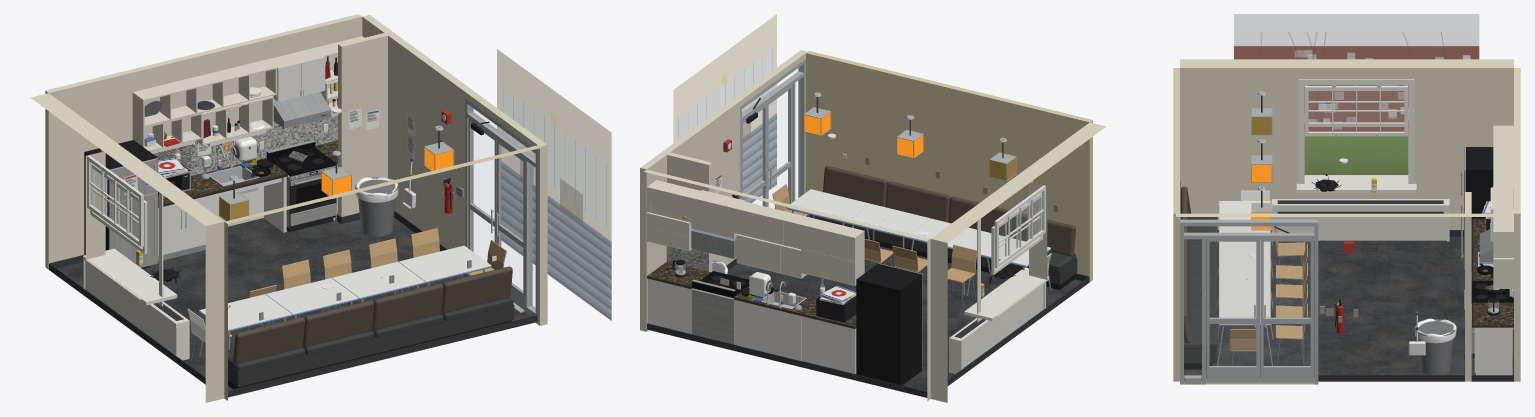
Rendered from room.glb.
3 renders of one model, left to right at view 1: azimuth 30°, elevation 25°; view 2: azimuth 150°, elevation 25°; view 3: azimuth 270°, elevation 25°, orthographic. The views are drawn at different scales.
Visible parts, largest first — view 1: shell, kitchen, furniture, decor, lighting; view 2: shell, kitchen, furniture, decor, lighting; view 3: shell, furniture, kitchen, decor, lighting.
Boxes of the visible parts, left/top/right/bottom form: shell: left=30, top=14, right=611, bottom=402; kitchen: left=84, top=36, right=364, bottom=268; furniture: left=187, top=177, right=514, bottom=389; decor: left=124, top=56, right=496, bottom=320; lighting: left=219, top=125, right=454, bottom=223; shell: left=640, top=14, right=1106, bottom=402; kitchen: left=647, top=180, right=922, bottom=385; furniture: left=712, top=166, right=1077, bottom=308; decor: left=649, top=133, right=1057, bottom=310; lighting: left=803, top=92, right=1016, bottom=181; shell: left=1173, top=14, right=1520, bottom=384; furniture: left=1180, top=186, right=1456, bottom=374; kitchen: left=1461, top=125, right=1513, bottom=375; decor: left=1180, top=158, right=1513, bottom=355; lighting: left=1251, top=91, right=1272, bottom=230.
Bounding box in the file's own units: 6.75 × 3.24 × 5.59.
Materials: 152 (40 with a texture image).
